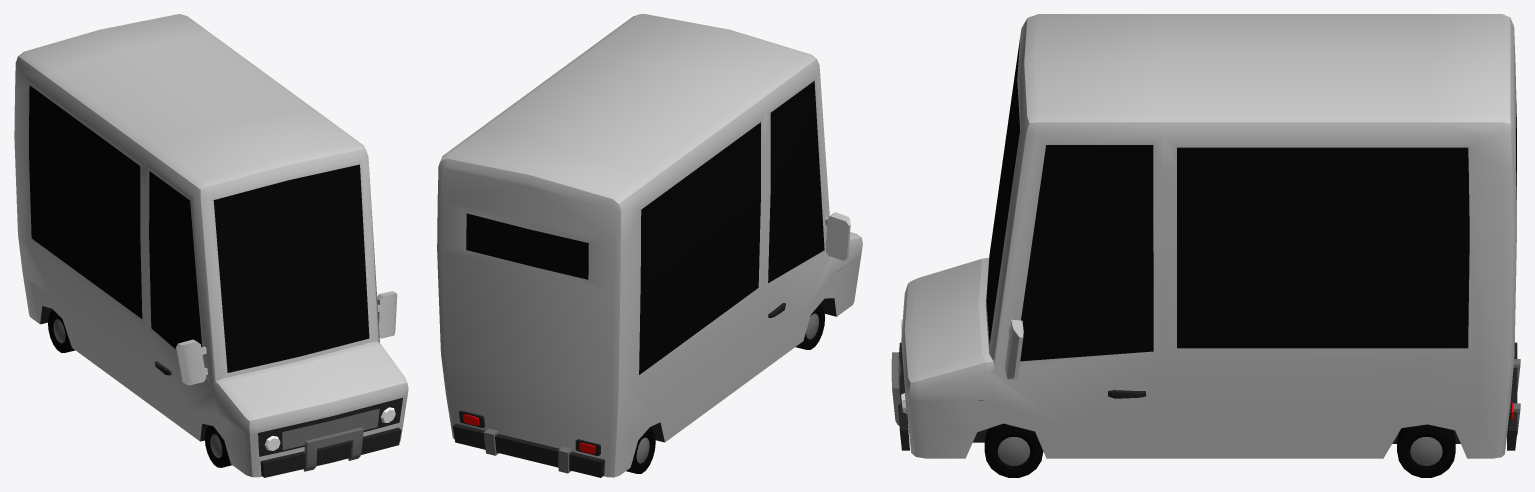
The picture shows the model from 3 angles, left to right: view 1: azimuth 30°, elevation 25°; view 2: azimuth 150°, elevation 25°; view 3: azimuth 270°, elevation 25°; orthographic projection. The views are drawn at different scales.
Visible parts, largest first — view 1: Cube, Cube.008, Cube.002, Cylinder.002, Cylinder.003; view 2: Cube, Cube.008, Cube.002, Cylinder.003, Cylinder.002; view 3: Cube, Cylinder.001, Cylinder.000, Cube.008, Cube.002.
Boxes of the visible parts, x1,y1,x2,y2 form: Cube: (14, 14, 408, 477); Cube.008: (258, 398, 402, 477); Cube.002: (175, 291, 397, 385); Cylinder.002: (204, 425, 231, 467); Cylinder.003: (48, 310, 75, 352); Cube: (437, 14, 862, 477); Cube.008: (452, 269, 840, 477); Cube.002: (825, 212, 850, 260); Cylinder.003: (626, 427, 655, 473); Cylinder.002: (795, 304, 824, 349); Cube: (901, 14, 1516, 458); Cylinder.001: (1397, 424, 1455, 477); Cylinder.000: (984, 423, 1043, 477); Cube.008: (891, 319, 1520, 450); Cube.002: (1005, 319, 1023, 379).
Bounding box in the file's own units: 166 × 205 × 313.
Materials: 1 (1 with a texture image).
